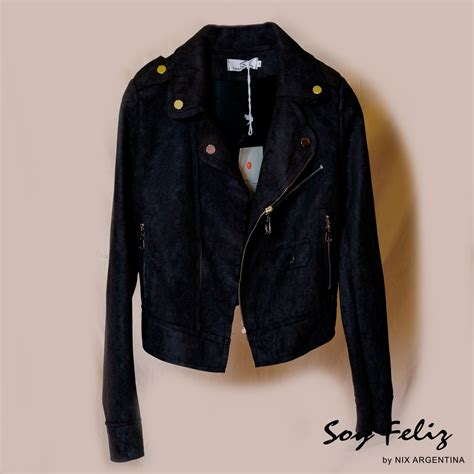gamuza: (102, 22, 394, 463)
